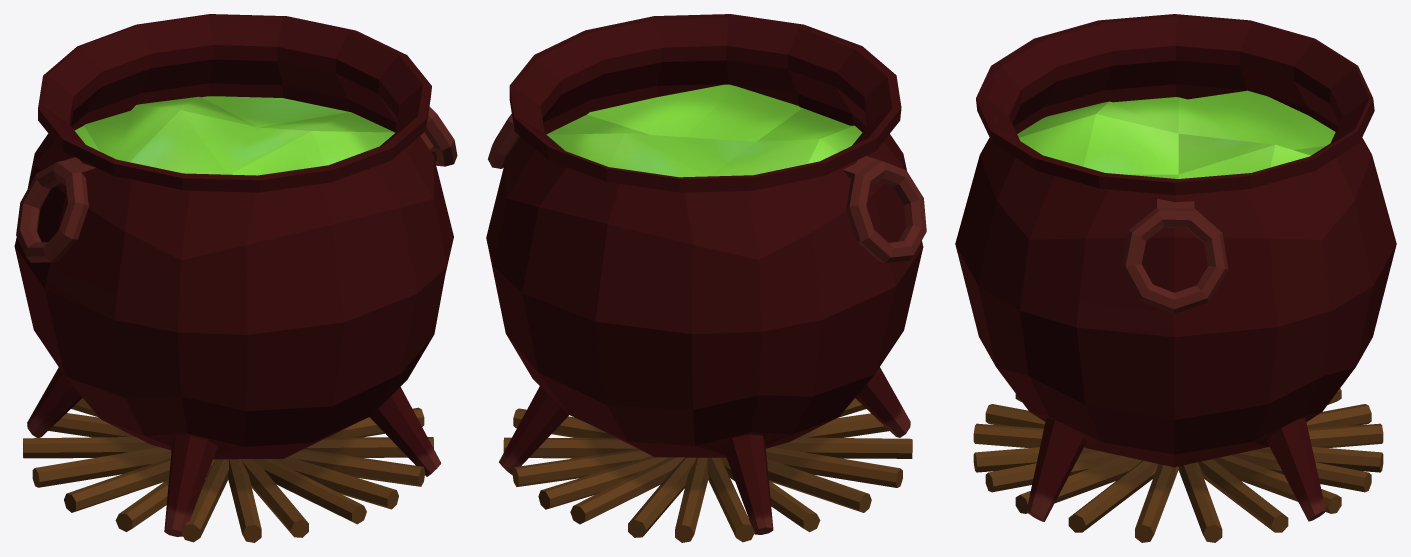
File: caldera.fbx
3 views of the same model, side by side, from view 1: azimuth 30°, elevation 25°; view 2: azimuth 150°, elevation 25°; view 3: azimuth 270°, elevation 25° (orthographic).
Parts seen in each view (by area): view 1: SC_Boiler, SC_Sticks, SC_Soup, SC_Handle; view 2: SC_Boiler, SC_Sticks, SC_Soup, SC_Handle; view 3: SC_Boiler, SC_Sticks, SC_Soup, SC_Handle.
Part boxes in pixels (box(x1,y1,x2,y2)): SC_Boiler: box(14, 14, 453, 536); SC_Sticks: box(23, 398, 433, 542); SC_Soup: box(74, 96, 395, 175); SC_Handle: box(16, 106, 457, 262); SC_Boiler: box(486, 14, 923, 534); SC_Sticks: box(503, 398, 912, 542); SC_Soup: box(546, 84, 862, 177); SC_Handle: box(488, 114, 926, 262); SC_Boiler: box(955, 14, 1396, 521); SC_Sticks: box(973, 388, 1383, 542); SC_Soup: box(1017, 90, 1335, 178); SC_Handle: box(1121, 199, 1228, 313).
Bounding box in the file's own units: 3.84 × 3.17 × 3.5.
